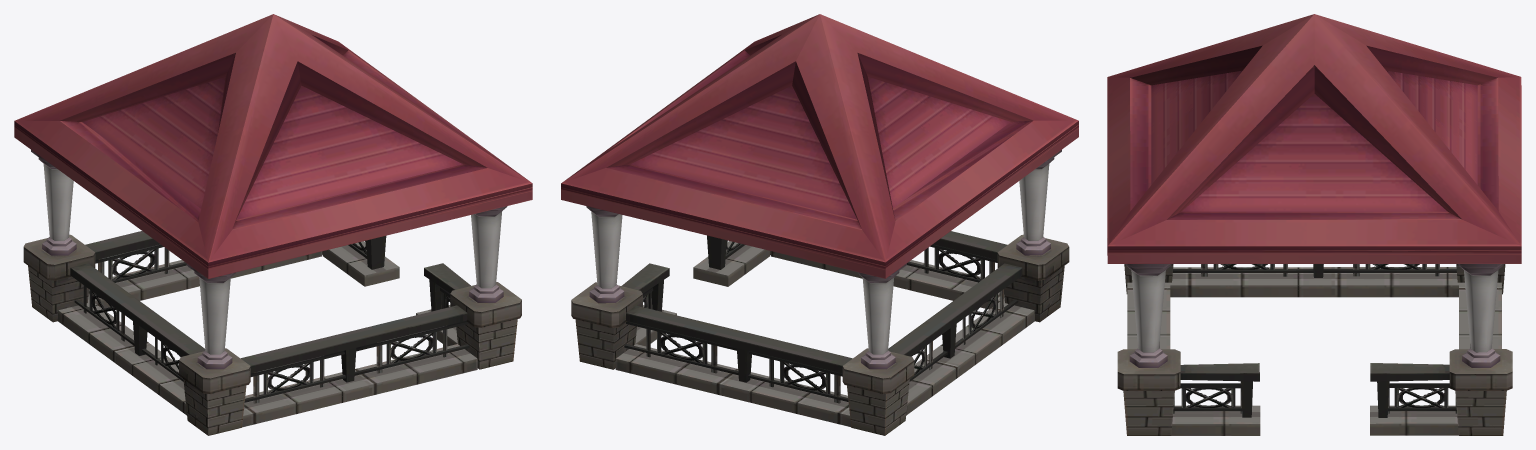
File: furni_0200956.FBX
3 renders of one model, left to right at view 1: azimuth 30°, elevation 25°; view 2: azimuth 150°, elevation 25°; view 3: azimuth 270°, elevation 25°, orthographic. The views are drawn at different scales.
Visible parts, largest first — view 1: furni_0200956; view 2: furni_0200956; view 3: furni_0200956.
Boxes of the visible parts, x1,y1,x2,y2 form: furni_0200956: (14,14,532,435); furni_0200956: (561,14,1078,435); furni_0200956: (1107,14,1521,435).
Bounding box in the file's own units: 513 × 484 × 531.
1 material, 1 textured.
